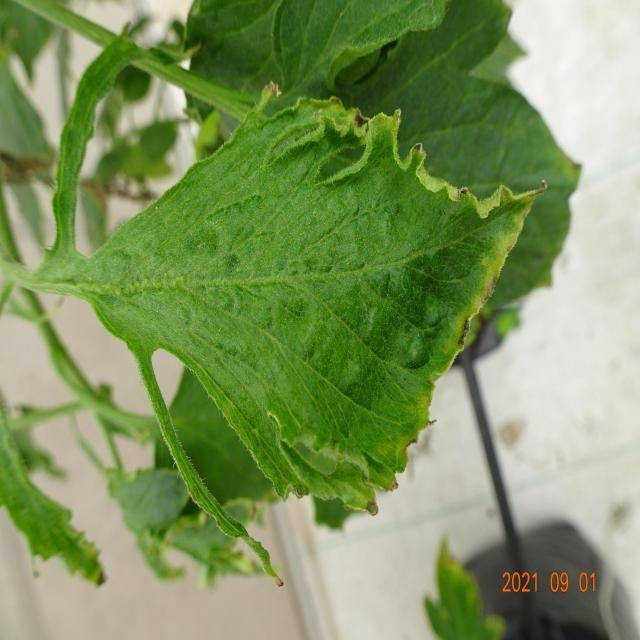T_L_R: (77, 101, 539, 509)
